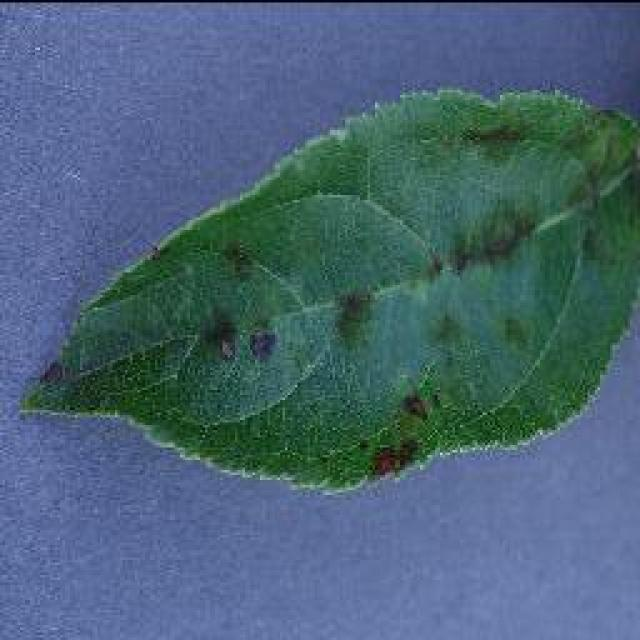apple scab disease: (18, 83, 638, 495)
